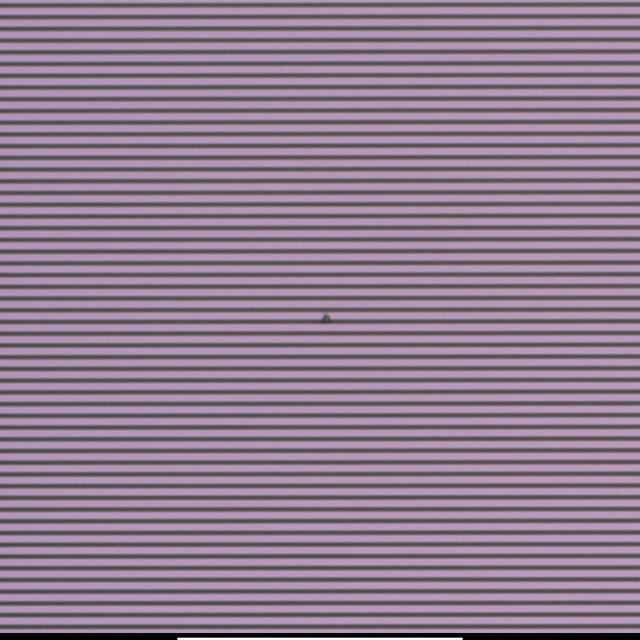03_intrusion: (311, 303, 337, 336)
